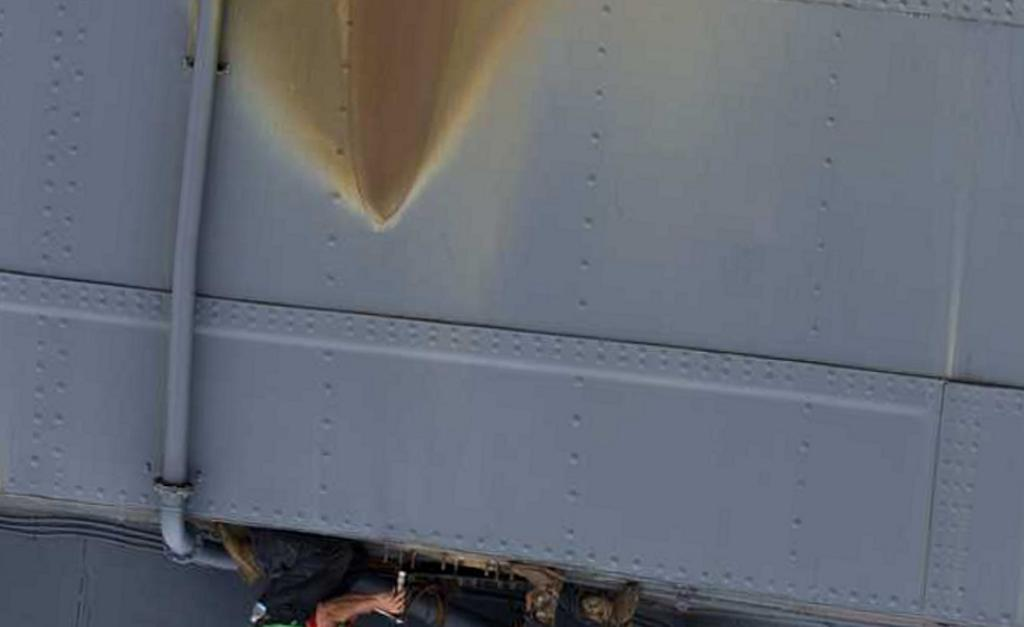rust: (208, 9, 584, 233)
